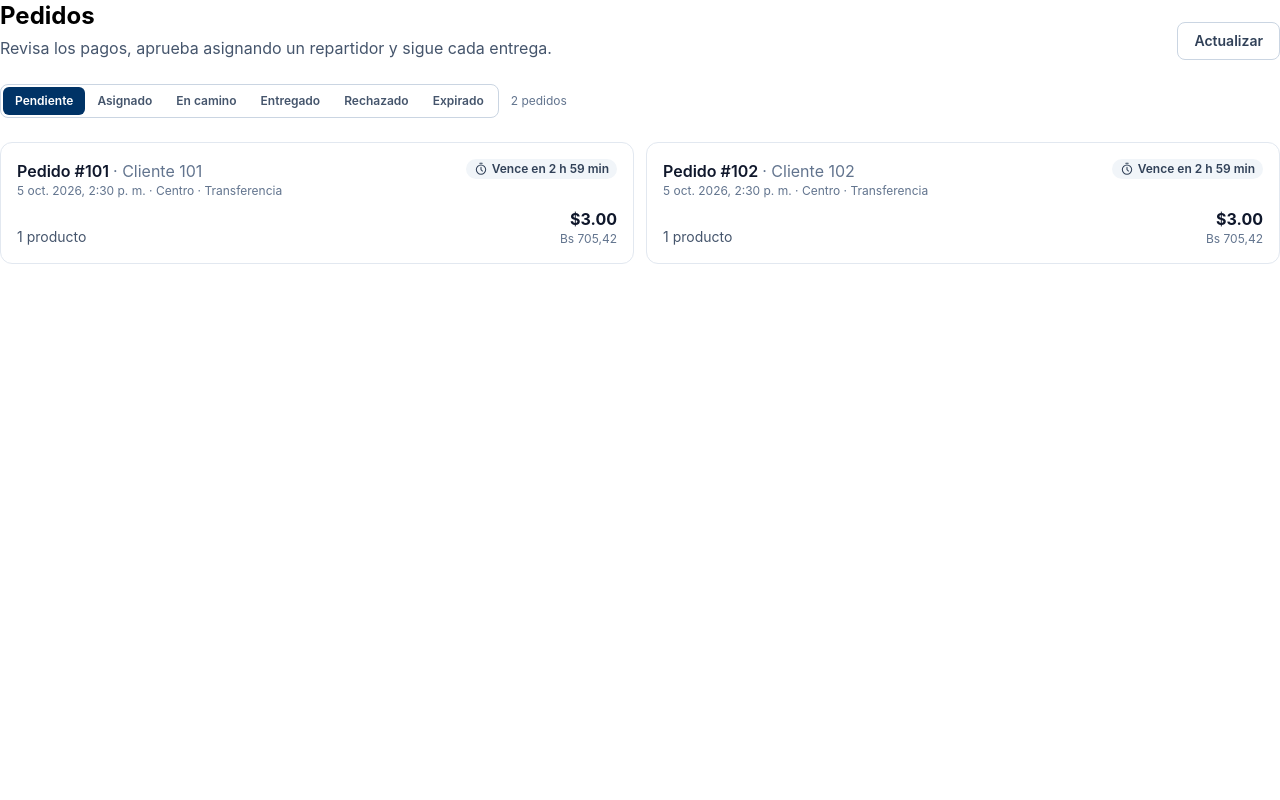
Pedidos: aprobar › aprueba con el repartidor elegido, quita el pedido de la bandeja y avisa
The image size is (1280, 800).
Step 1. Click the button "Pedido #101" → coordinates (51, 171), box [0,142,634,264]
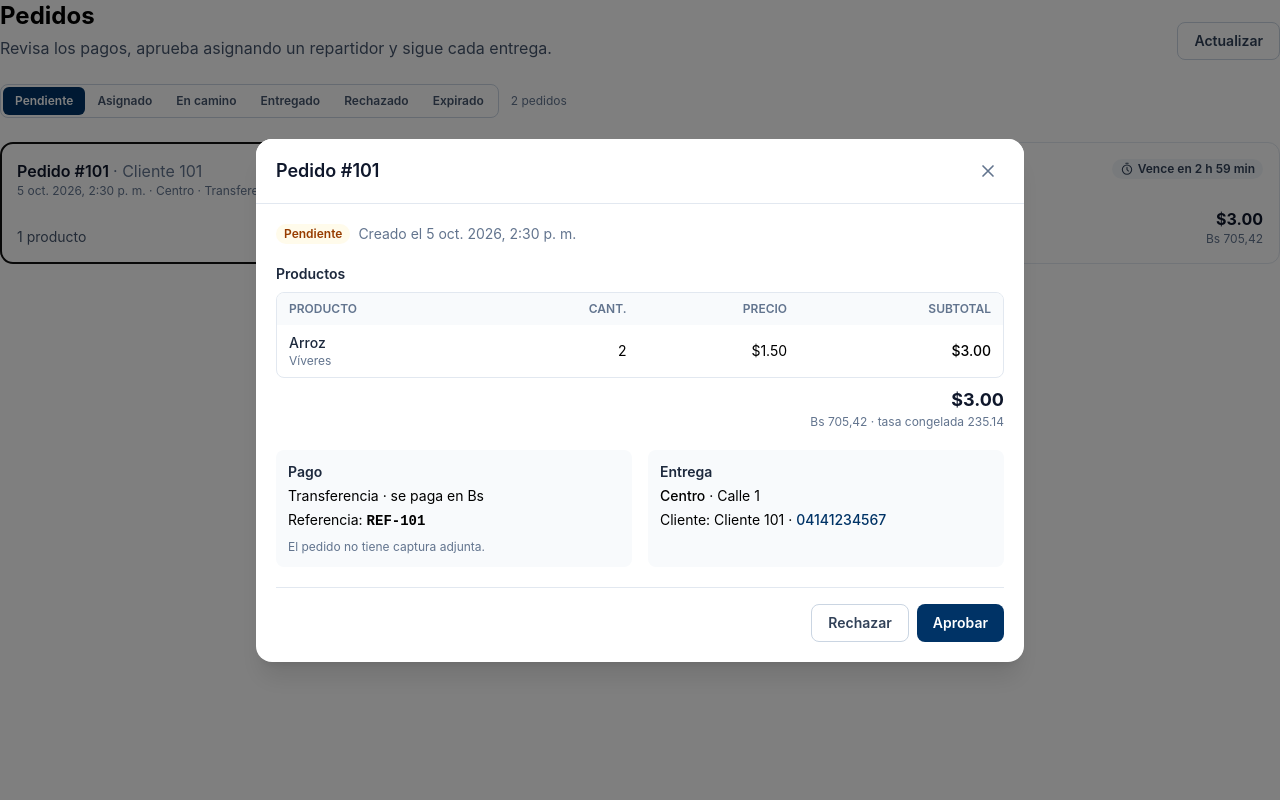
Step 2. Click the button "Aprobar" → coordinates (960, 622), box [917,604,1004,642]
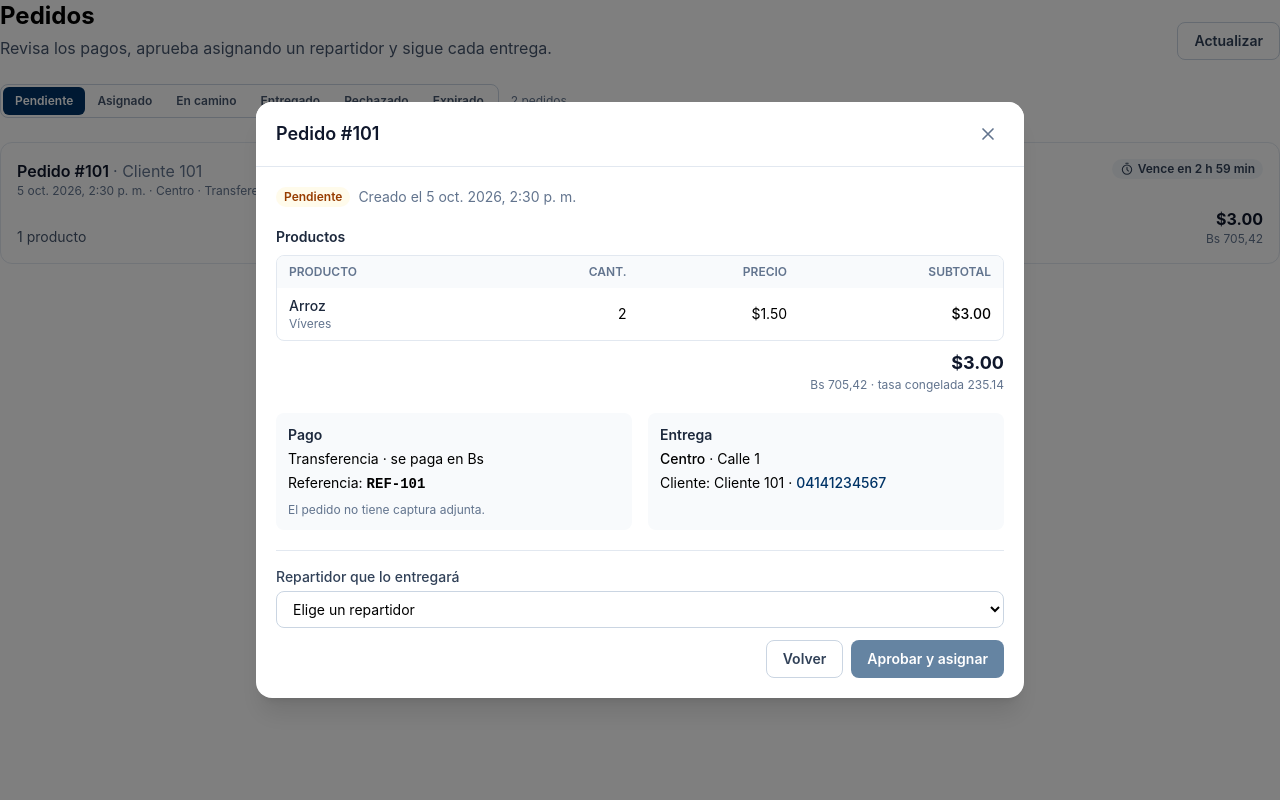
Step 3. Select "Pedro Díaz · 0 en curso" in the dropdown labelled "Repartidor que lo entregará" → coordinates (640, 610), box [276,591,1004,628]
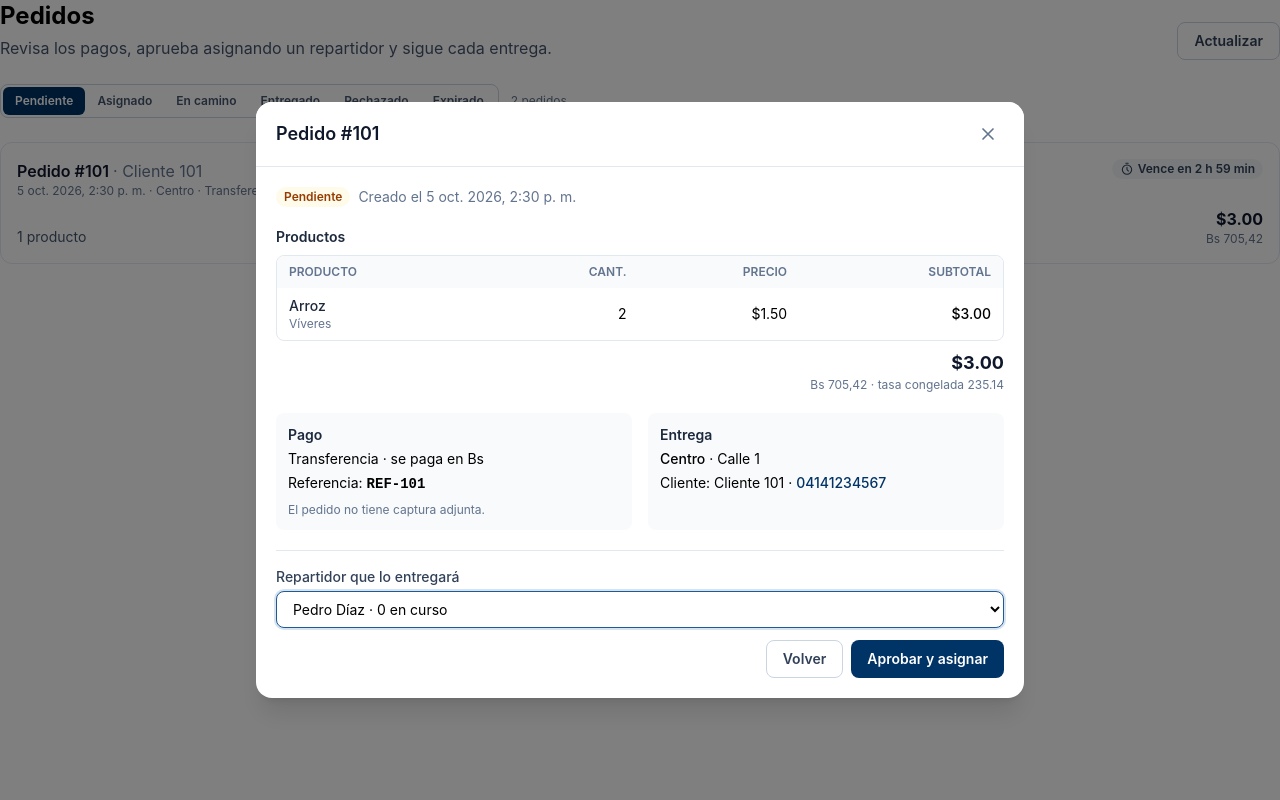
Step 4. Click the button "Aprobar y asignar" → coordinates (928, 659), box [851,640,1004,678]
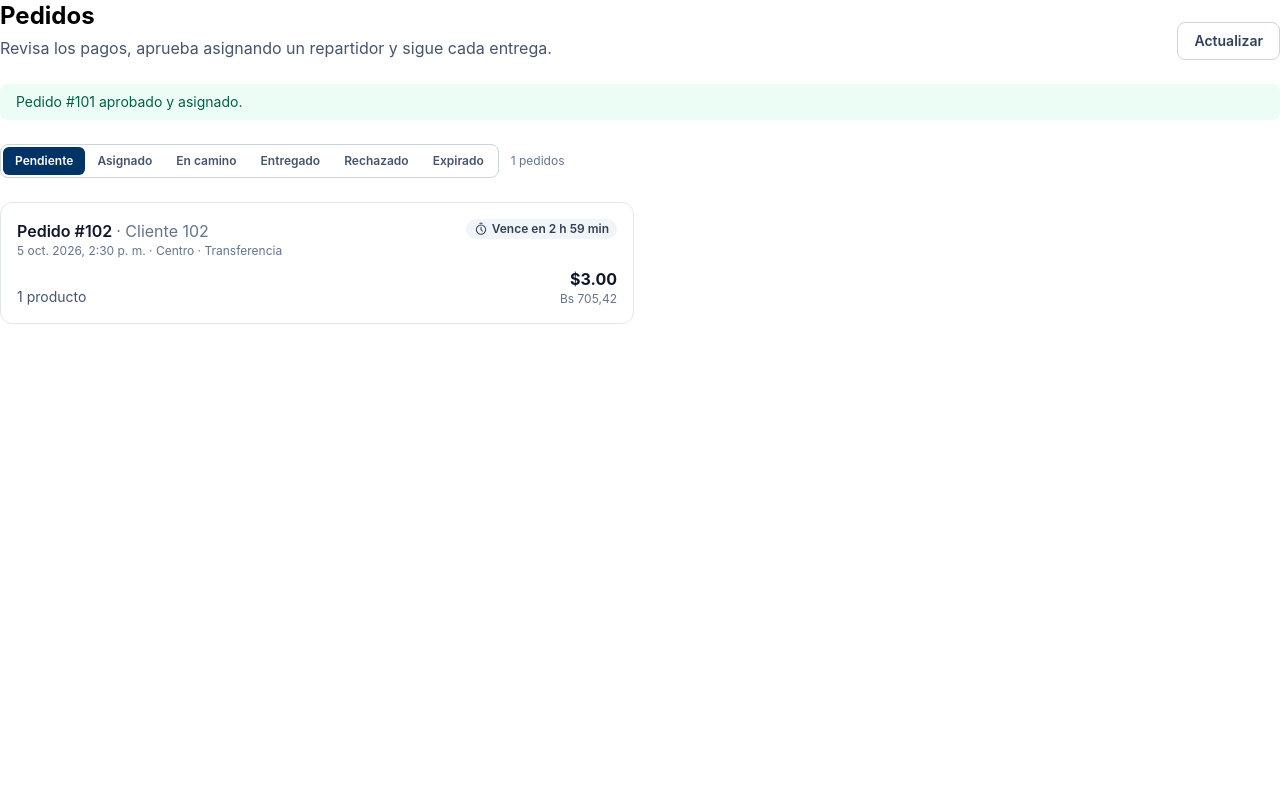
expect the message reads "Pedido #101 aprobado y asignado.": met, box [16,93,242,110]
expect the dialog is gone: met
expect the text "1 pedidos" is shown: met, box [511,153,564,169]
